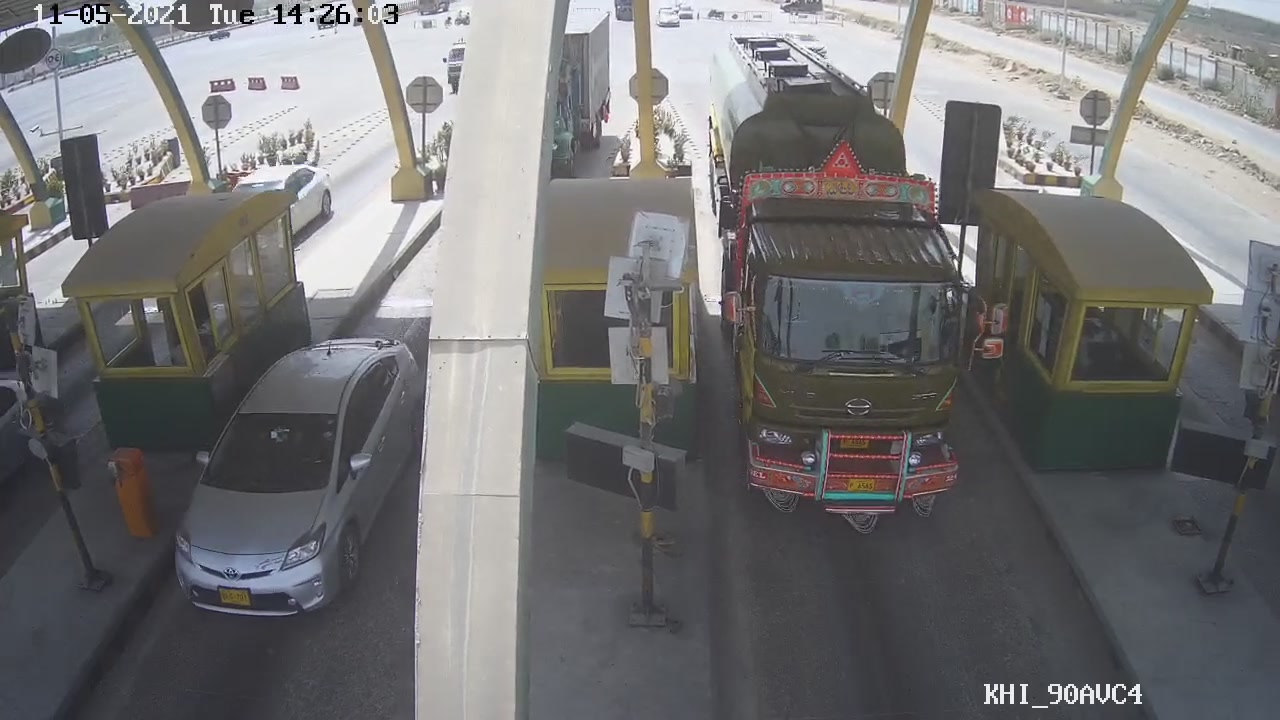F6: (698, 24, 961, 525)
